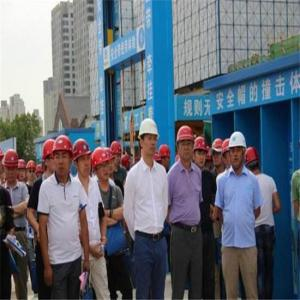red: (72, 137, 94, 180), (53, 135, 73, 180), (176, 125, 196, 164), (92, 146, 110, 183), (4, 150, 19, 186), (193, 135, 208, 170), (43, 139, 56, 176), (245, 146, 261, 176), (211, 137, 224, 170), (111, 140, 124, 168), (159, 144, 172, 170), (17, 158, 28, 185), (27, 160, 37, 183)
white: (139, 119, 159, 160), (229, 131, 248, 171)
